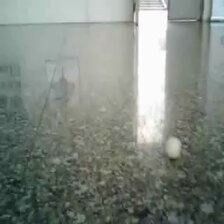w: (165, 136, 183, 160)
